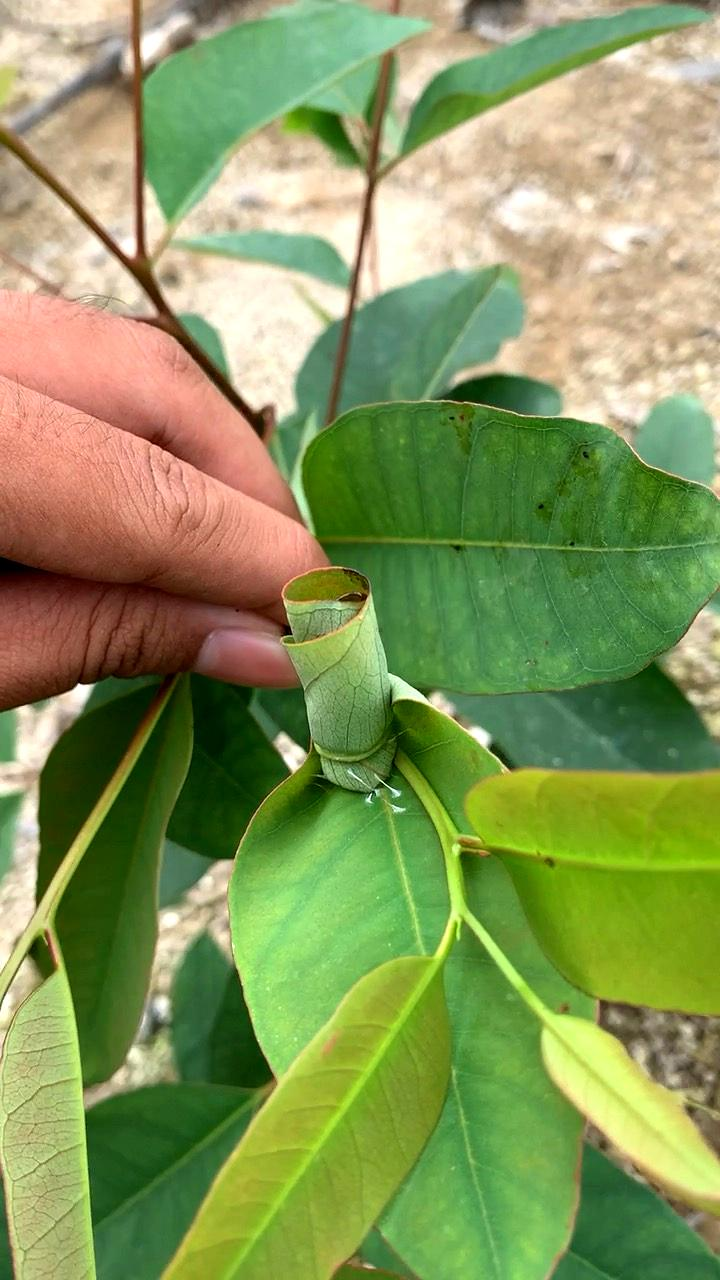Leaf Roller - Leaf: (250, 553, 429, 822)
